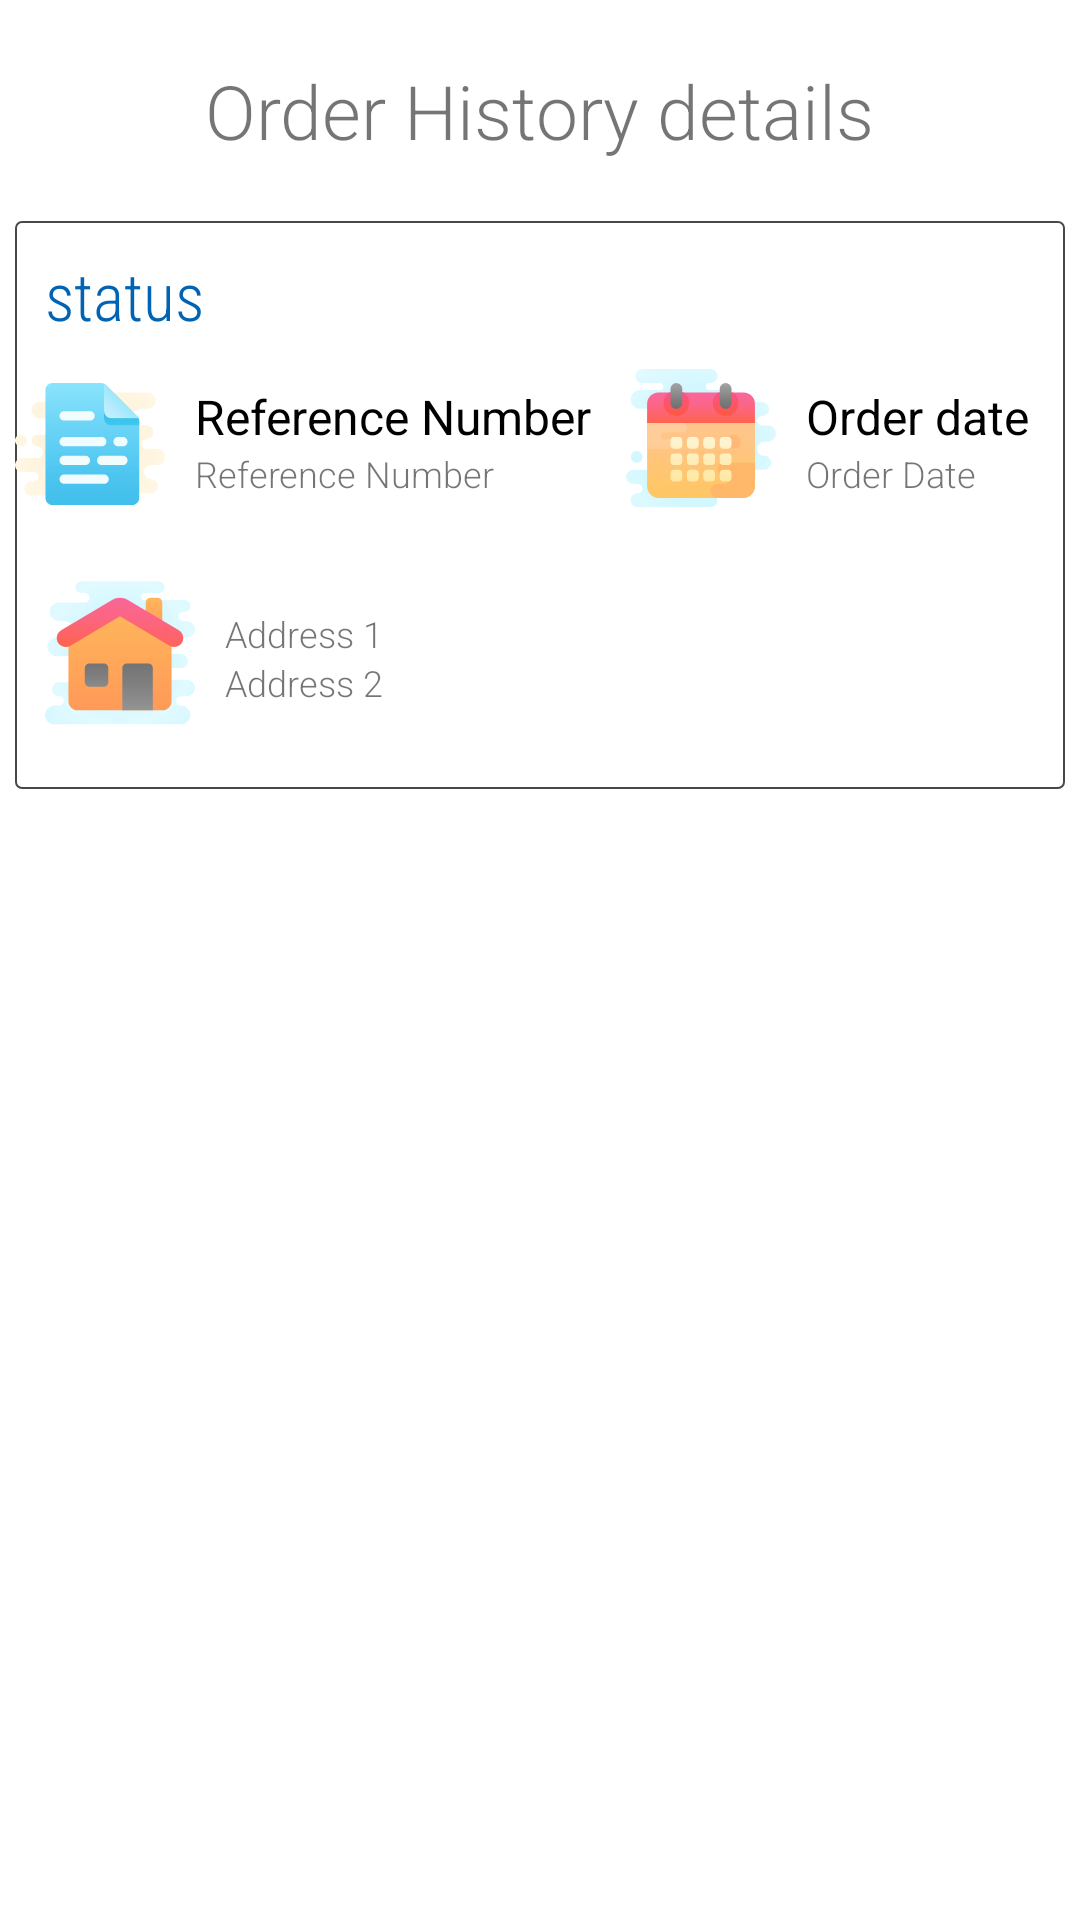

Named icons in this screenshot (1080 x 1920) and their bounding boxes, (x1,y1,x2,y2):
calendar: (626,369,776,507)
document: (15,369,165,519)
home: (45,581,195,724)
